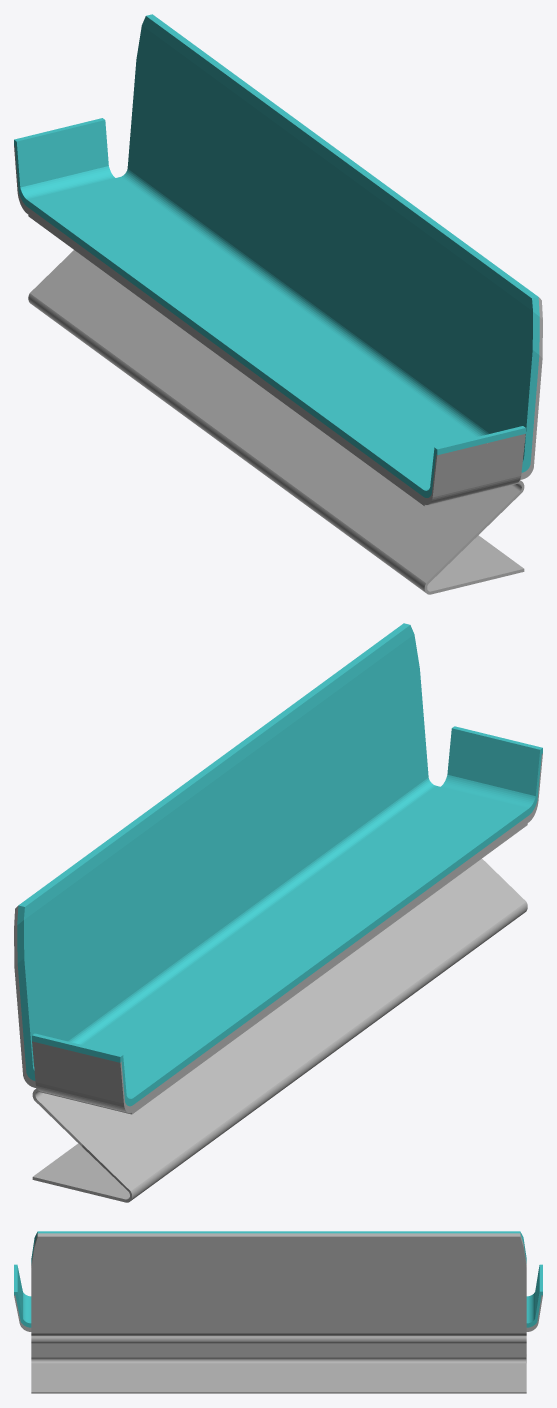
Rendered from canape.fbx.
3 views of the same model, one above another, from view 1: azimuth 30°, elevation 25°; view 2: azimuth 150°, elevation 25°; view 3: azimuth 270°, elevation 25° (orthographic). The views are drawn at different scales.
Parts seen in each view (by area): view 1: Assise_Tissus, Pied, Assise_Métal; view 2: Assise_Tissus, Pied, Assise_Métal; view 3: Assise_Métal, Pied, Assise_Tissus.
Part boxes in pixels (left/top/right/bottom): Assise_Tissus: left=14, top=14, right=539, bottom=497; Pied: left=28, top=215, right=524, bottom=594; Assise_Métal: left=14, top=145, right=542, bottom=504; Assise_Tissus: left=17, top=623, right=542, bottom=1106; Pied: left=32, top=823, right=527, bottom=1202; Assise_Métal: left=14, top=753, right=542, bottom=1113; Assise_Métal: left=14, top=1233, right=542, bottom=1336; Pied: left=31, top=1336, right=526, bottom=1393; Assise_Tissus: left=14, top=1231, right=542, bottom=1327.
Size of the model in its own units: 55.84 by 115 by 331.
